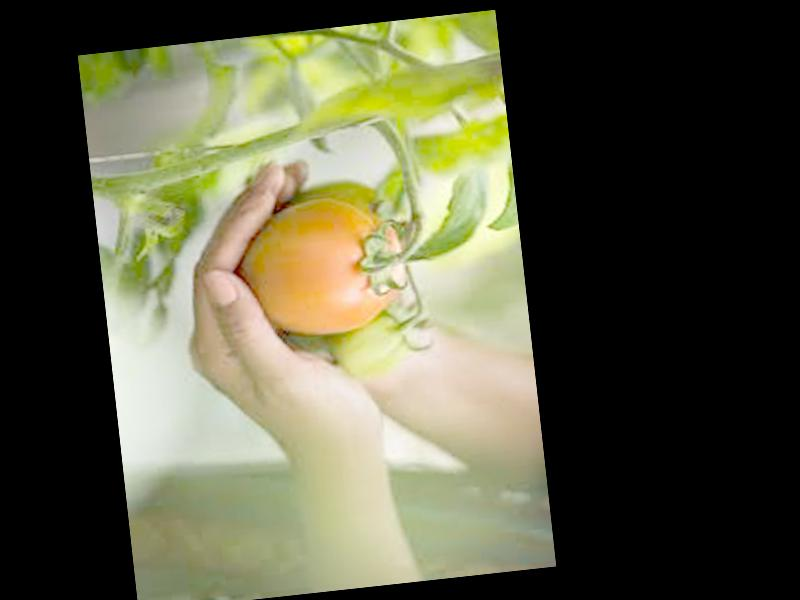Tomato: (242, 193, 409, 341)
